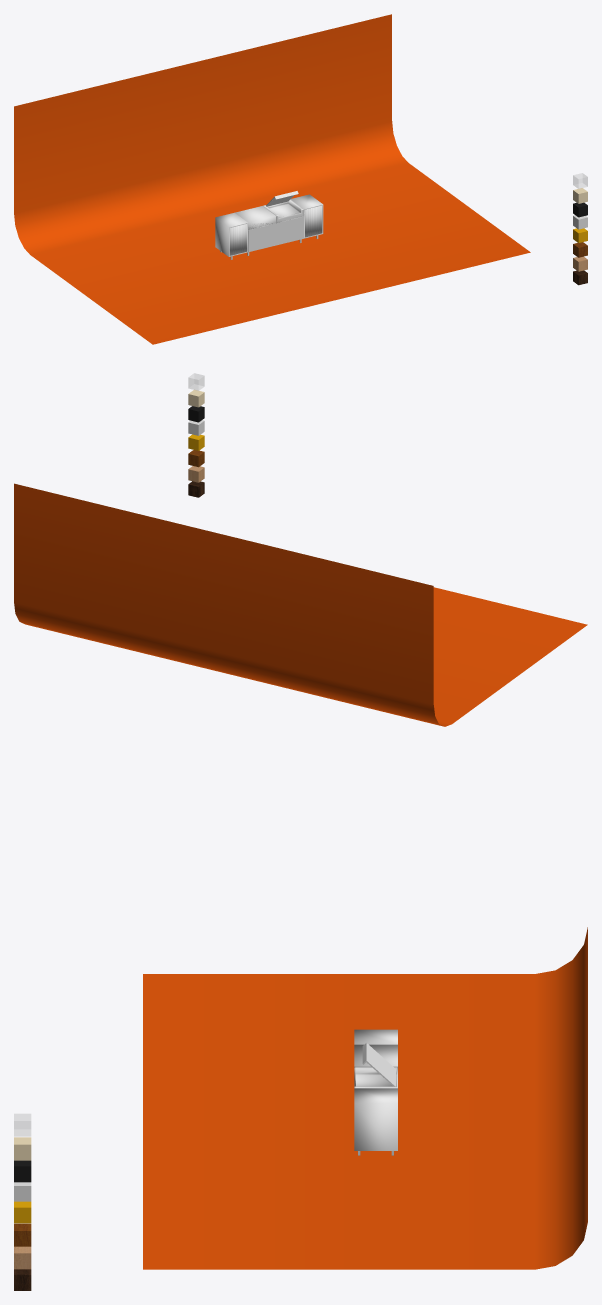
The model's file is 3DTOWEBB_PEVIEW_6.glb.
3 views of the same model, one above another, from view 1: azimuth 30°, elevation 25°; view 2: azimuth 150°, elevation 25°; view 3: azimuth 270°, elevation 25° (orthographic). The views are drawn at different scales.
Visible parts, largest first — view 1: Scene_Orange, Console_Large, Cabinet_Smooth, Cabinet_Textured, Speaker, NS_Textured; view 2: Scene_Orange; view 3: Scene_Orange, Console_Large, Recordplayer_Cover.
Boxes of the visible parts, x1,y1,x2,y2 form: Scene_Orange: (14,14,530,344); Console_Large: (215,194,323,256); Cabinet_Smooth: (248,216,303,252); Cabinet_Textured: (249,216,302,251); Speaker: (229,205,322,255); NS_Textured: (230,206,321,255); Scene_Orange: (14,483,587,726); Scene_Orange: (143,927,587,1269); Console_Large: (354,1029,397,1150); Recordplayer_Cover: (362,1043,396,1086).
Size of the model in its own units: 8.36 by 2.87 by 6.57.
10 materials, 3 textured.
